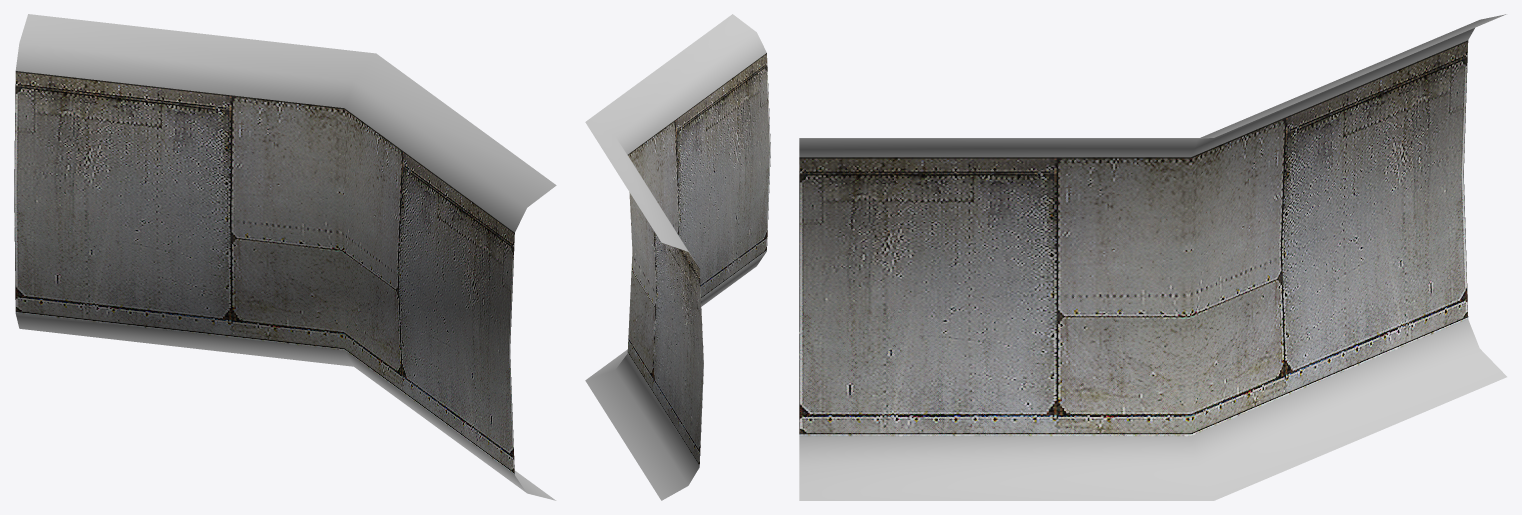
File: Wall_D_Short2mts_08.fbx
3 views of the same model, side by side, from view 1: azimuth 30°, elevation 25°; view 2: azimuth 150°, elevation 25°; view 3: azimuth 270°, elevation 25° (orthographic). The views are drawn at different scales.
Visible parts, largest first — view 1: Wall_D_Short2mts_08; view 2: Wall_D_Short2mts_08; view 3: Wall_D_Short2mts_08.
Part boxes in pixels (left/top/right/bottom): Wall_D_Short2mts_08: left=14, top=14, right=556, bottom=500; Wall_D_Short2mts_08: left=585, top=14, right=770, bottom=500; Wall_D_Short2mts_08: left=799, top=14, right=1506, bottom=500.
Size of the model in its own units: 168 by 200 by 354.
